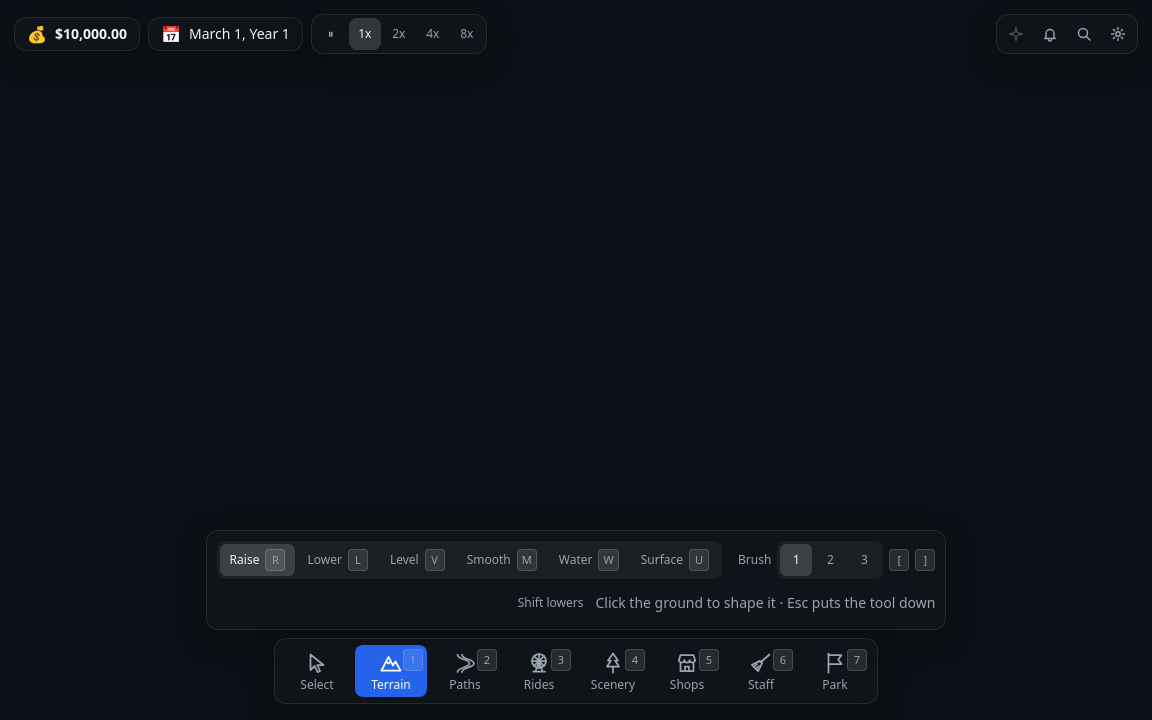
Test: a click on the map runs what the tray has in hand › tells the player why a click was refused
This screenshot has width=1152, height=720.
Click the button "Water W" at (589,560), box [549,544,629,576]
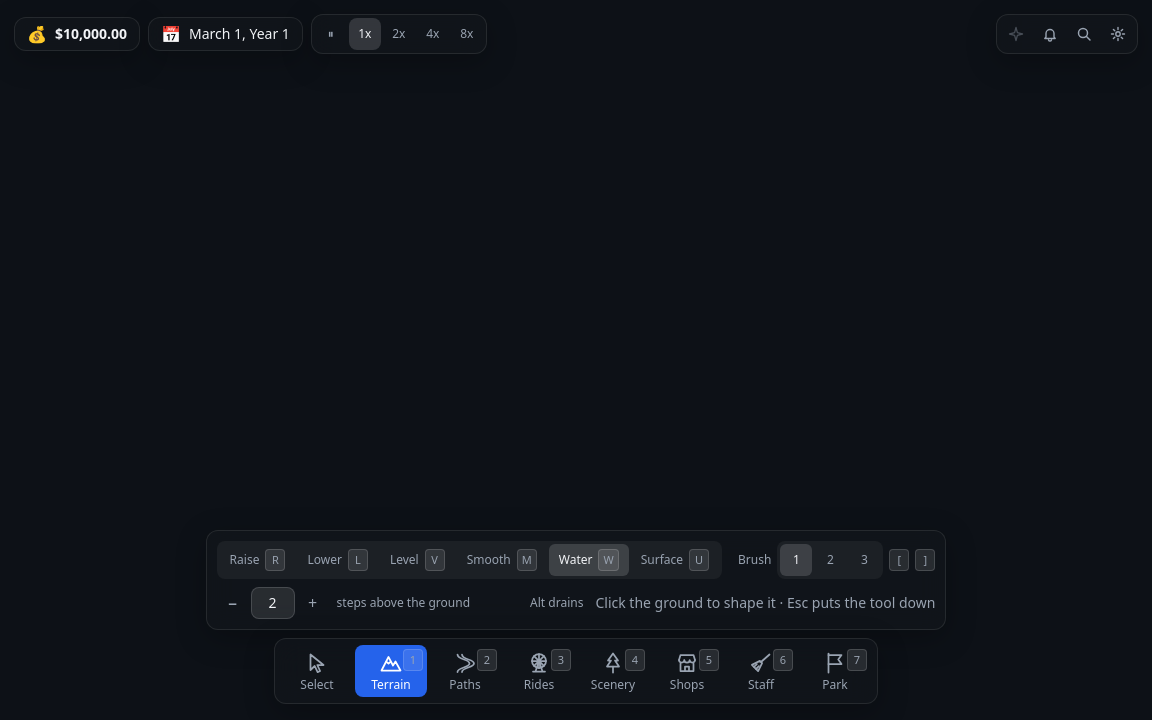
Press the mouse on the drawing named "Park view" at (576,360), box [0,0,1151,719]
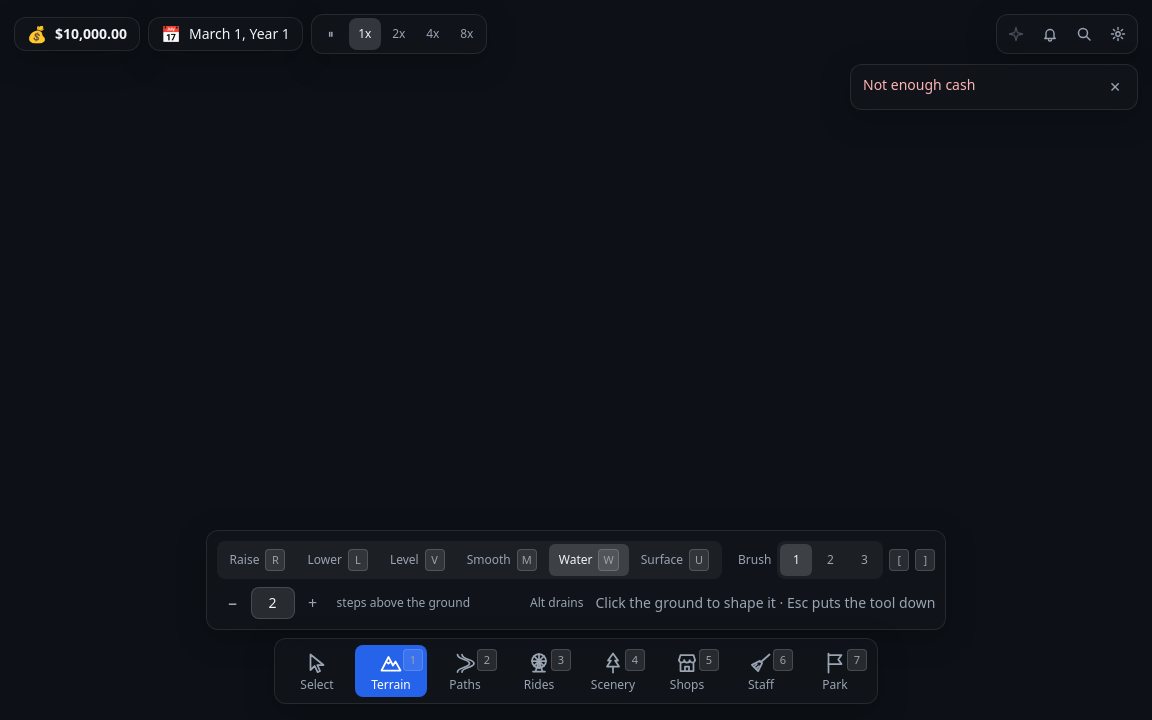
Expected: the message shows "Not enough cash", [863,75,975,94]
